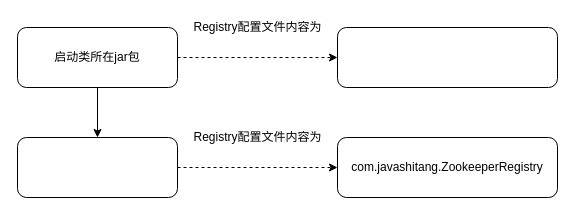
Image size: 575x215. Some labels were removed from this diagram. Here are the shapes that lost their labels. From the top down, the centre of each, then its label:
the point at 447,57: com.javashitang.RedisRegistry
the point at 97,167: 依赖进来的rpc框架jar包
